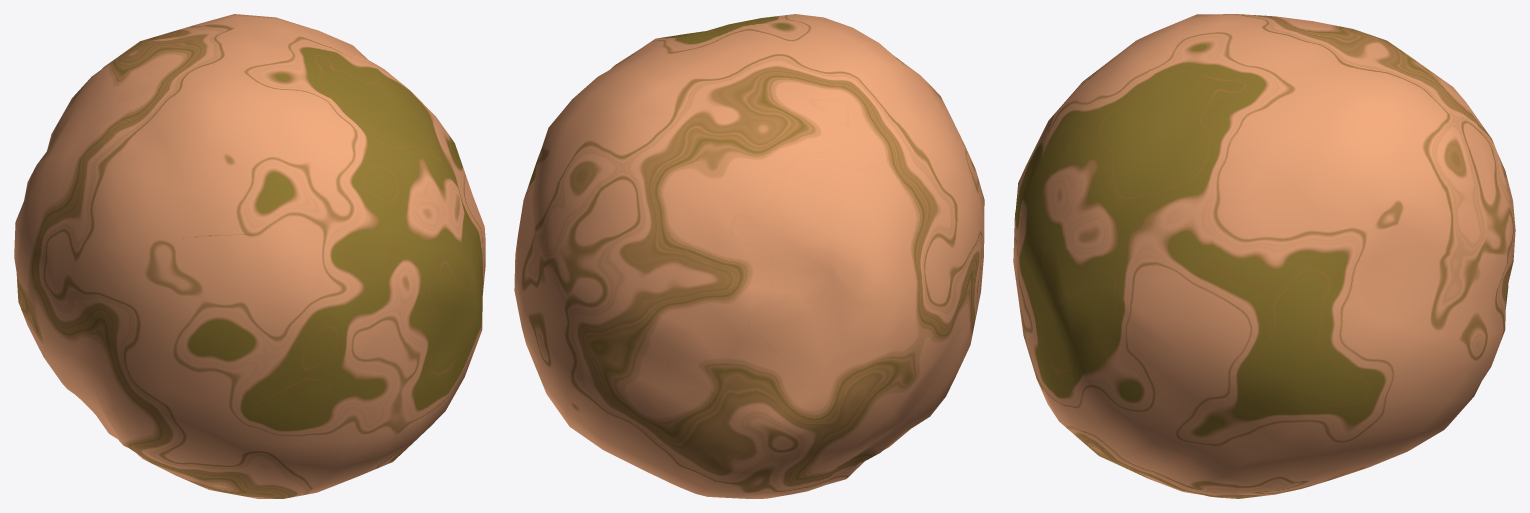
The model's file is Planet 01 brown.gltf.
3 renders of one model, left to right at view 1: azimuth 30°, elevation 25°; view 2: azimuth 150°, elevation 25°; view 3: azimuth 270°, elevation 25°, orthographic. The views are drawn at different scales.
Visible parts, largest first — view 1: Planet 01 brown; view 2: Planet 01 brown; view 3: Planet 01 brown.
Boxes of the visible parts, x1,y1,x2,y2 form: Planet 01 brown: [14, 14, 485, 498]; Planet 01 brown: [514, 14, 984, 498]; Planet 01 brown: [1013, 14, 1515, 498].
Bounding box in the file's own units: 2.52 × 2.58 × 2.7.
Materials: 1 (1 with a texture image).
